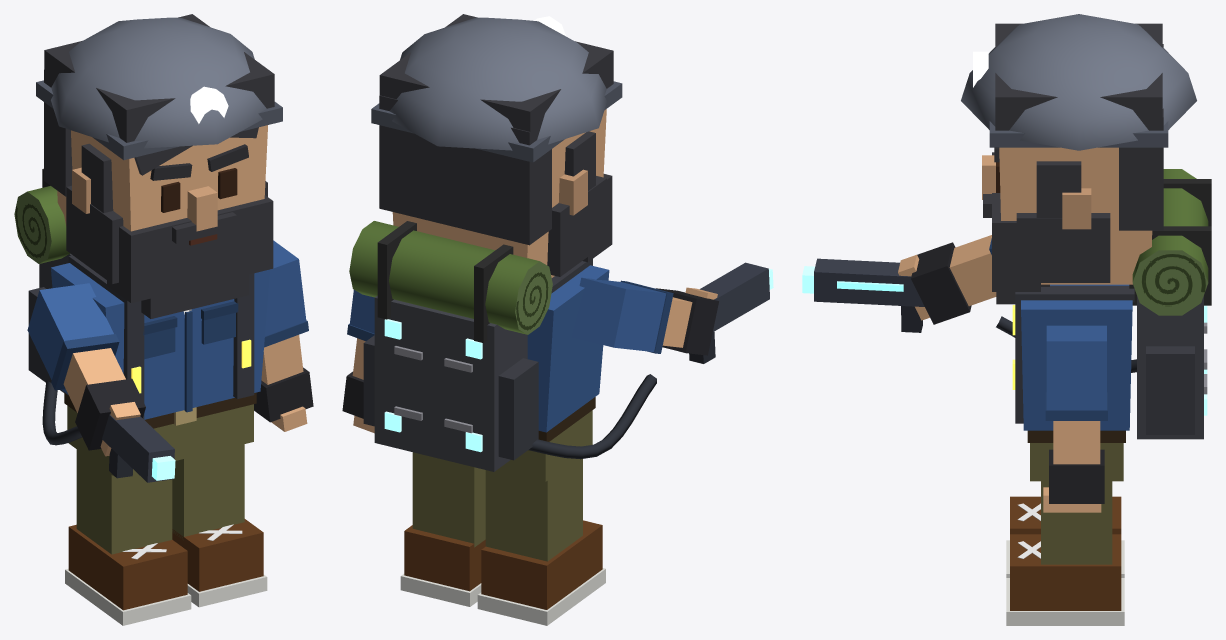
Rendered from GhostHunter_Proton.glb.
The picture shows the model from 3 angles, left to right: view 1: azimuth 30°, elevation 25°; view 2: azimuth 150°, elevation 25°; view 3: azimuth 270°, elevation 25°; orthographic projection.
Parts seen in each view (by area): view 1: GhostHunter, Helmet, Leg (×2), Boot (×2), Beard, Torso, Head, Sleeve (×2), Glove (×2), Hips, Hair, Strap (×2) (+11 smaller); view 2: GhostHunter, Helmet, Backpack, Leg (×2), Bedroll, Boot (×2), Torso, Sleeve (×2), Hair, Head, Sole (×2), Glove (×2) (+5 smaller); view 3: GhostHunter, Helmet, Torso, Boot (×2), Head, Bedroll, Glove (×2), Sleeve, Backpack, Forearm (×2), Leg, Hair (+6 smaller).
Boxes of the visible parts, bbox=[...] form: GhostHunter: bbox=[28, 70, 308, 559]; Helmet: bbox=[51, 17, 266, 148]; Leg (×2): bbox=[76, 444, 244, 554]; Boot (×2): bbox=[68, 519, 263, 610]; Beard: bbox=[107, 195, 273, 303]; Torso: bbox=[51, 263, 270, 419]; Head: bbox=[57, 125, 267, 231]; Sleeve (×2): bbox=[27, 240, 306, 379]; Glove (×2): bbox=[75, 367, 313, 450]; Hips: bbox=[67, 404, 253, 475]; Hair: bbox=[44, 14, 274, 142]; Strap (×2): bbox=[122, 273, 254, 419]; GhostHunter: bbox=[347, 16, 773, 460]; Helmet: bbox=[389, 17, 606, 150]; Backpack: bbox=[374, 296, 527, 471]; Leg (×2): bbox=[412, 452, 582, 561]; Bedroll: bbox=[349, 221, 552, 334]; Boot (×2): bbox=[404, 520, 602, 609]; Torso: bbox=[527, 265, 609, 432]; Sleeve (×2): bbox=[349, 277, 666, 351]; Hair: bbox=[379, 14, 613, 144]; Head: bbox=[392, 109, 606, 277]; Sole (×2): bbox=[400, 568, 605, 625]; Glove (×2): bbox=[342, 288, 718, 418]; GhostHunter: bbox=[802, 44, 1211, 558]; Helmet: bbox=[961, 14, 1196, 150]; Torso: bbox=[1021, 284, 1132, 430]; Boot (×2): bbox=[1010, 496, 1121, 610]; Head: bbox=[999, 147, 1152, 284]; Bedroll: bbox=[1132, 169, 1208, 315]; Glove (×2): bbox=[911, 242, 1104, 503]; Sleeve: bbox=[1046, 325, 1106, 410]; Backpack: bbox=[1137, 296, 1203, 439]; Forearm (×2): bbox=[949, 235, 1100, 464]; Leg: bbox=[1041, 481, 1112, 564]; Hair: bbox=[995, 23, 1162, 130].
Size of the model in its own units: 1.47 by 2.78 by 1.84.
35 materials, 1 textured.
